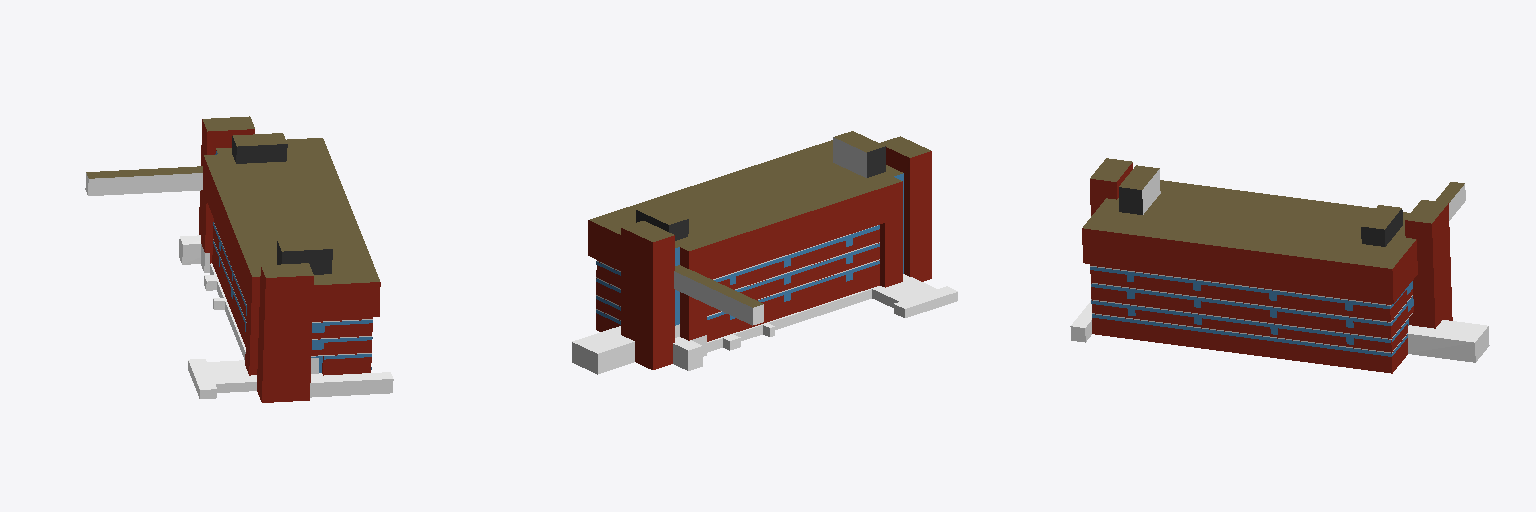
File: Sondheim.obj
The picture shows the model from 3 angles: view 1: azimuth 30°, elevation 25°; view 2: azimuth 150°, elevation 25°; view 3: azimuth 270°, elevation 25°; orthographic projection.
Visible parts, largest first — view 1: SM_Sondheim_Bldg, SM_Sondheim_Wndws; view 2: SM_Sondheim_Bldg, SM_Sondheim_Wndws; view 3: SM_Sondheim_Bldg, SM_Sondheim_Wndws.
Boxes of the visible parts, x1=… form: SM_Sondheim_Bldg: x1=85, y1=116, x2=393, y2=402; SM_Sondheim_Wndws: x1=213, y1=151, x2=372, y2=372; SM_Sondheim_Bldg: x1=572, y1=131, x2=957, y2=374; SM_Sondheim_Wndws: x1=596, y1=173, x2=903, y2=325; SM_Sondheim_Bldg: x1=1070, y1=158, x2=1489, y2=373; SM_Sondheim_Wndws: x1=1090, y1=267, x2=1413, y2=356.
Size of the model in its own units: 5149 by 2744 by 7577.